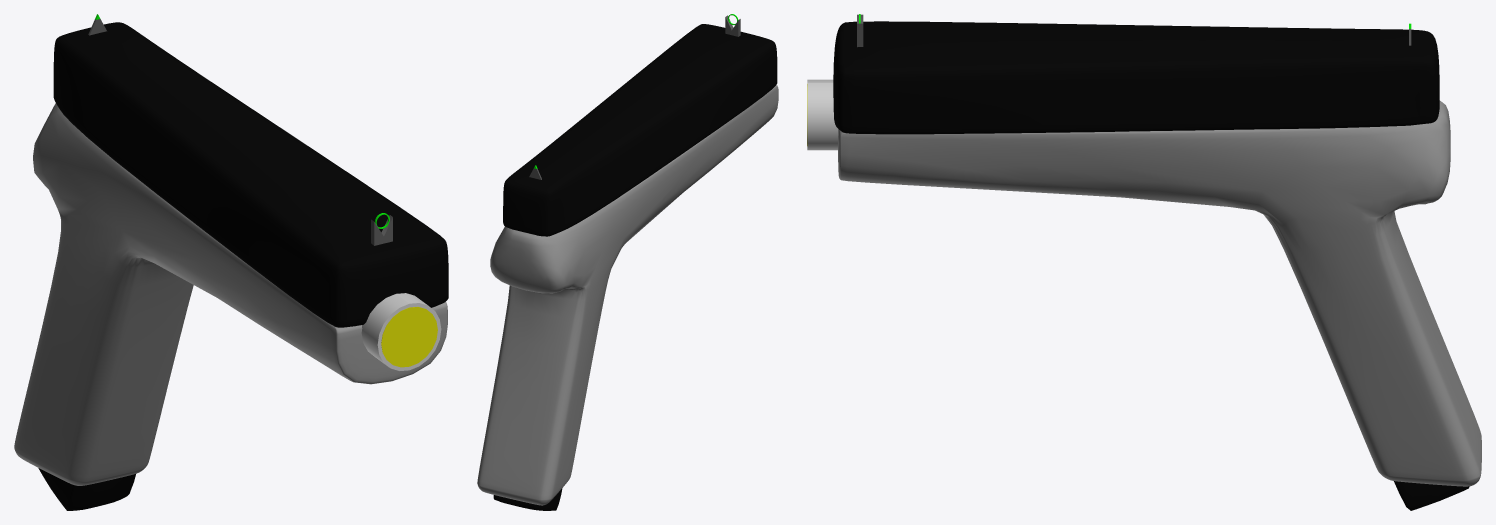
File: pistor_gun.fbx
3 views of the same model, side by side, from view 1: azimuth 30°, elevation 25°; view 2: azimuth 150°, elevation 25°; view 3: azimuth 270°, elevation 25° (orthographic). The views are drawn at different scales.
Visible parts, largest first — view 1: body_gun, pCube8, Out_fine, Max_gasen; view 2: body_gun, pCube8, Max_gasen; view 3: body_gun, pCube8, Out_fine, Max_gasen.
Boxes of the visible parts, <box> form: body_gun: <box>14,103,447,485</box>; pCube8: <box>53,22,448,327</box>; Out_fine: <box>361,293,441,370</box>; Max_gasen: <box>38,468,135,510</box>; body_gun: <box>477,85,778,505</box>; pCube8: <box>503,24,777,236</box>; Max_gasen: <box>493,488,562,510</box>; body_gun: <box>838,100,1481,486</box>; pCube8: <box>833,21,1439,134</box>; Out_fine: <box>807,79,838,150</box>; Max_gasen: <box>1394,481,1469,510</box>.
Bounding box in the file's own units: 0.2255 × 0.9169 × 1.16.
